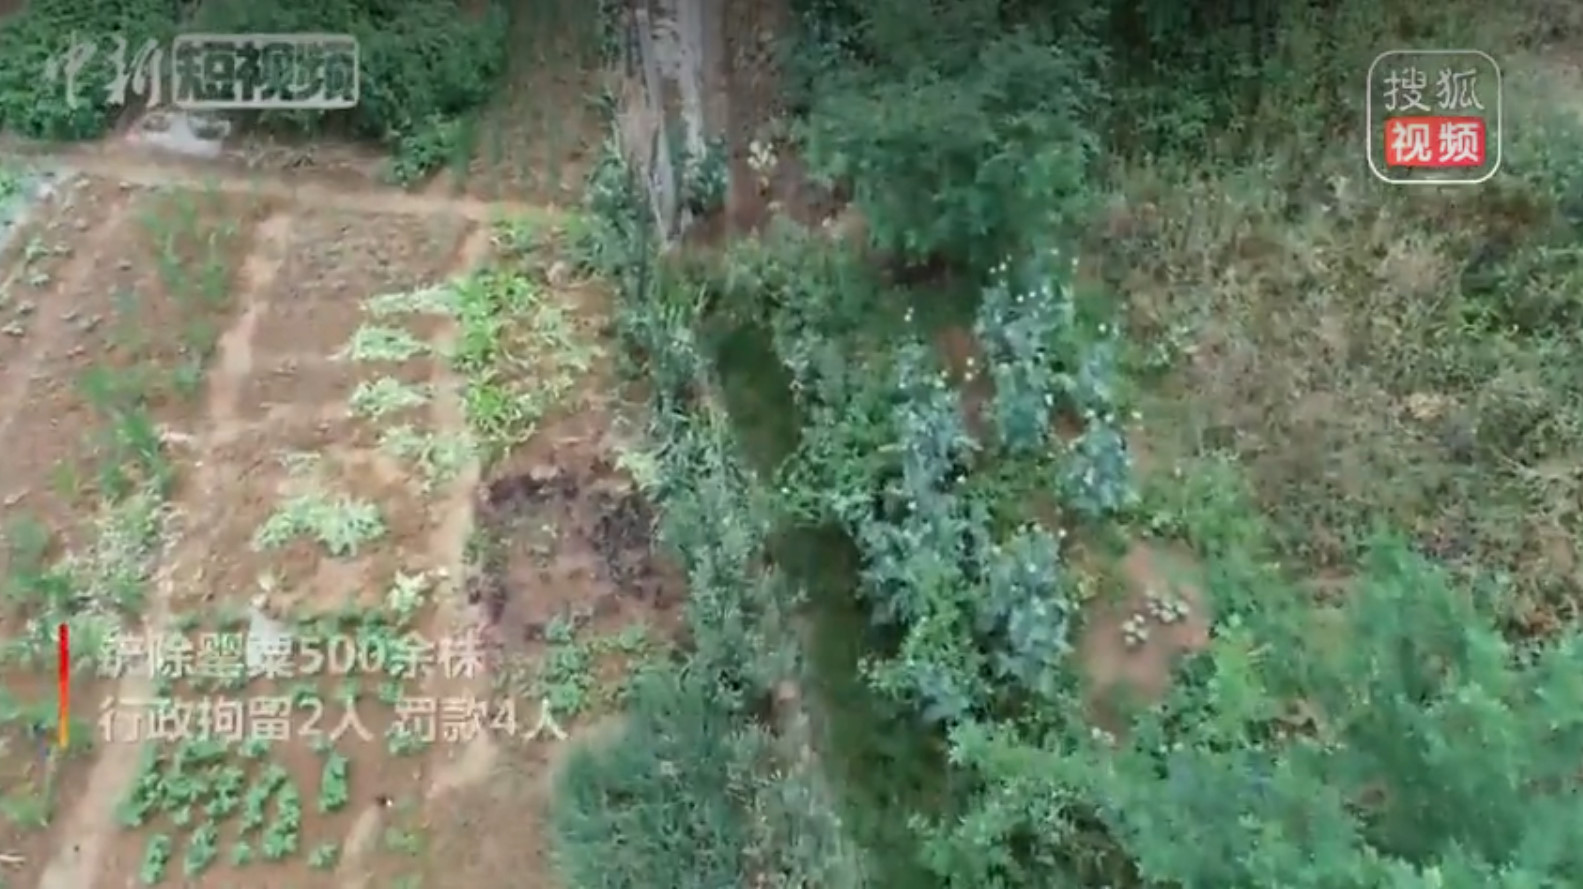Poppy: (867, 237, 1166, 666)
